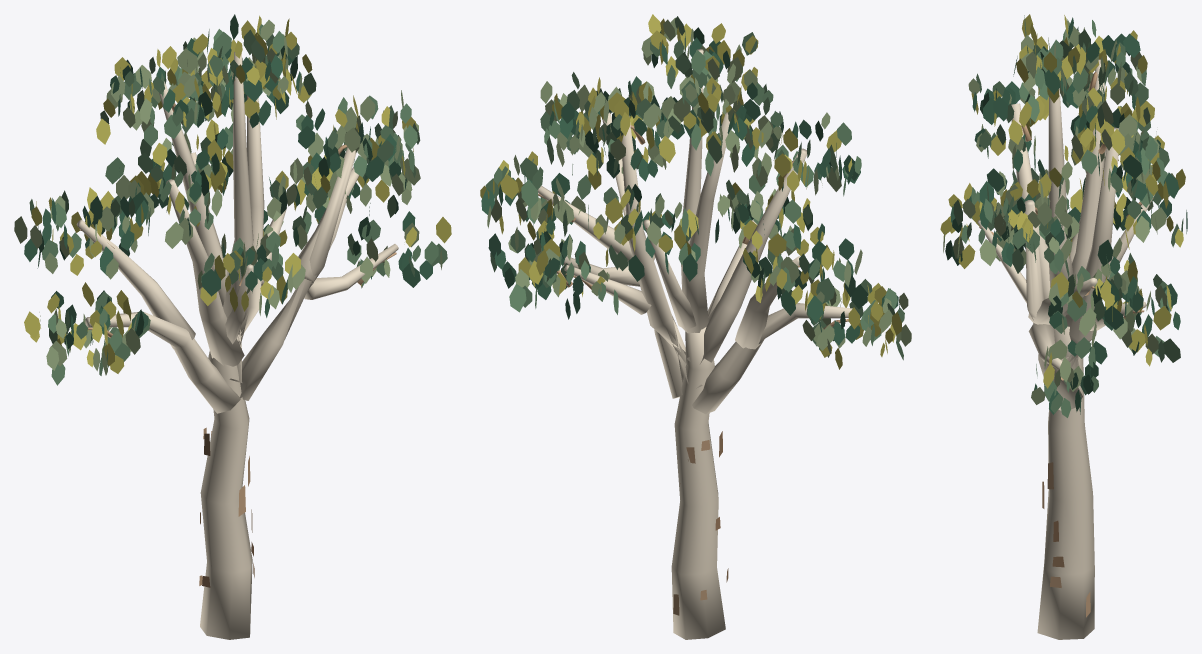
Rendered from TREE_EUCALYPTUS_001_v003_LOD_GAMEPLAY.glb.
3 views of the same model, side by side, from view 1: azimuth 30°, elevation 25°; view 2: azimuth 150°, elevation 25°; view 3: azimuth 270°, elevation 25° (orthographic).
Parts seen in each view (by area): view 1: TREE_EUCALYPTUS_001_GAMEPLAY_MERGED_FOLIAGE_SPRAYS, TREE_EUCALYPTUS_001_GAMEPLAY_WOOD_00, TREE_EUCALYPTUS_001_GAMEPLAY_WOOD_07, TREE_EUCALYPTUS_001_GAMEPLAY_WOOD_01, TREE_EUCALYPTUS_001_GAMEPLAY_WOOD_05, TREE_EUCALYPTUS_001_GAMEPLAY_WOOD_03, TREE_EUCALYPTUS_001_GAMEPLAY_WOOD_06, TREE_EUCALYPTUS_001_GAMEPLAY_WOOD_02, TREE_EUCALYPTUS_001_GAMEPLAY_WOOD_04, TREE_EUCALYPTUS_001_GAMEPLAY_WOOD_12, TREE_EUCALYPTUS_001_GAMEPLAY_WOOD_08, TREE_EUCALYPTUS_001_GAMEPLAY_WOOD_11 (+1 smaller); view 2: TREE_EUCALYPTUS_001_GAMEPLAY_MERGED_FOLIAGE_SPRAYS, TREE_EUCALYPTUS_001_GAMEPLAY_WOOD_00, TREE_EUCALYPTUS_001_GAMEPLAY_WOOD_03, TREE_EUCALYPTUS_001_GAMEPLAY_WOOD_06, TREE_EUCALYPTUS_001_GAMEPLAY_WOOD_01, TREE_EUCALYPTUS_001_GAMEPLAY_WOOD_04, TREE_EUCALYPTUS_001_GAMEPLAY_WOOD_02, TREE_EUCALYPTUS_001_GAMEPLAY_WOOD_07, TREE_EUCALYPTUS_001_GAMEPLAY_WOOD_10, TREE_EUCALYPTUS_001_GAMEPLAY_WOOD_05, TREE_EUCALYPTUS_001_GAMEPLAY_WOOD_08, TREE_EUCALYPTUS_001_GAMEPLAY_WOOD_09 (+2 smaller); view 3: TREE_EUCALYPTUS_001_GAMEPLAY_MERGED_FOLIAGE_SPRAYS, TREE_EUCALYPTUS_001_GAMEPLAY_WOOD_00, TREE_EUCALYPTUS_001_GAMEPLAY_WOOD_06, TREE_EUCALYPTUS_001_GAMEPLAY_WOOD_04, TREE_EUCALYPTUS_001_GAMEPLAY_WOOD_05, TREE_EUCALYPTUS_001_GAMEPLAY_WOOD_07, TREE_EUCALYPTUS_001_GAMEPLAY_WOOD_03, TREE_EUCALYPTUS_001_GAMEPLAY_WOOD_12, TREE_EUCALYPTUS_001_GAMEPLAY_BARK_PATCHES, TREE_EUCALYPTUS_001_GAMEPLAY_WOOD_08, TREE_EUCALYPTUS_001_GAMEPLAY_WOOD_11, TREE_EUCALYPTUS_001_GAMEPLAY_WOOD_10.
Boxes of the visible parts, bbox=[...] form: TREE_EUCALYPTUS_001_GAMEPLAY_MERGED_FOLIAGE_SPRAYS: bbox=[14, 14, 451, 385]; TREE_EUCALYPTUS_001_GAMEPLAY_WOOD_00: bbox=[200, 334, 252, 639]; TREE_EUCALYPTUS_001_GAMEPLAY_WOOD_07: bbox=[240, 147, 356, 400]; TREE_EUCALYPTUS_001_GAMEPLAY_WOOD_01: bbox=[85, 312, 240, 413]; TREE_EUCALYPTUS_001_GAMEPLAY_WOOD_05: bbox=[223, 52, 253, 317]; TREE_EUCALYPTUS_001_GAMEPLAY_WOOD_03: bbox=[166, 179, 244, 366]; TREE_EUCALYPTUS_001_GAMEPLAY_WOOD_06: bbox=[229, 95, 264, 382]; TREE_EUCALYPTUS_001_GAMEPLAY_WOOD_02: bbox=[76, 219, 195, 349]; TREE_EUCALYPTUS_001_GAMEPLAY_WOOD_04: bbox=[159, 81, 227, 306]; TREE_EUCALYPTUS_001_GAMEPLAY_WOOD_12: bbox=[304, 244, 398, 299]; TREE_EUCALYPTUS_001_GAMEPLAY_WOOD_08: bbox=[298, 167, 359, 284]; TREE_EUCALYPTUS_001_GAMEPLAY_WOOD_11: bbox=[225, 264, 253, 344]; TREE_EUCALYPTUS_001_GAMEPLAY_MERGED_FOLIAGE_SPRAYS: bbox=[480, 14, 911, 369]; TREE_EUCALYPTUS_001_GAMEPLAY_WOOD_00: bbox=[671, 327, 725, 639]; TREE_EUCALYPTUS_001_GAMEPLAY_WOOD_03: bbox=[687, 148, 807, 363]; TREE_EUCALYPTUS_001_GAMEPLAY_WOOD_06: bbox=[621, 115, 702, 388]; TREE_EUCALYPTUS_001_GAMEPLAY_WOOD_01: bbox=[692, 303, 852, 414]; TREE_EUCALYPTUS_001_GAMEPLAY_WOOD_04: bbox=[682, 112, 729, 333]; TREE_EUCALYPTUS_001_GAMEPLAY_WOOD_02: bbox=[735, 256, 800, 349]; TREE_EUCALYPTUS_001_GAMEPLAY_WOOD_07: bbox=[602, 112, 685, 398]; TREE_EUCALYPTUS_001_GAMEPLAY_WOOD_10: bbox=[643, 219, 696, 329]; TREE_EUCALYPTUS_001_GAMEPLAY_WOOD_05: bbox=[680, 49, 703, 290]; TREE_EUCALYPTUS_001_GAMEPLAY_WOOD_08: bbox=[537, 186, 655, 264]; TREE_EUCALYPTUS_001_GAMEPLAY_WOOD_09: bbox=[564, 265, 651, 314]; TREE_EUCALYPTUS_001_GAMEPLAY_MERGED_FOLIAGE_SPRAYS: bbox=[940, 14, 1187, 417]; TREE_EUCALYPTUS_001_GAMEPLAY_WOOD_00: bbox=[1037, 326, 1094, 639]; TREE_EUCALYPTUS_001_GAMEPLAY_WOOD_06: bbox=[1067, 127, 1118, 370]; TREE_EUCALYPTUS_001_GAMEPLAY_WOOD_04: bbox=[1065, 59, 1105, 326]; TREE_EUCALYPTUS_001_GAMEPLAY_WOOD_05: bbox=[1048, 88, 1073, 316]; TREE_EUCALYPTUS_001_GAMEPLAY_WOOD_07: bbox=[1024, 200, 1082, 410]; TREE_EUCALYPTUS_001_GAMEPLAY_WOOD_03: bbox=[1011, 103, 1070, 358]; TREE_EUCALYPTUS_001_GAMEPLAY_WOOD_12: bbox=[1028, 323, 1062, 369]; TREE_EUCALYPTUS_001_GAMEPLAY_BARK_PATCHES: bbox=[1042, 462, 1090, 617]; TREE_EUCALYPTUS_001_GAMEPLAY_WOOD_08: bbox=[1028, 277, 1097, 324]; TREE_EUCALYPTUS_001_GAMEPLAY_WOOD_11: bbox=[977, 219, 1026, 303]; TREE_EUCALYPTUS_001_GAMEPLAY_WOOD_10: bbox=[1107, 195, 1154, 279].
Size of the model in its own units: 10.16 by 14.07 by 5.2.
